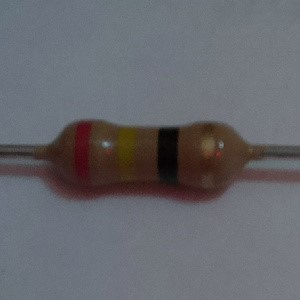black_band: (155, 124, 182, 187)
gold_band: (197, 122, 219, 192)
orange_band: (71, 119, 94, 187)
yellow_band: (114, 125, 142, 184)
